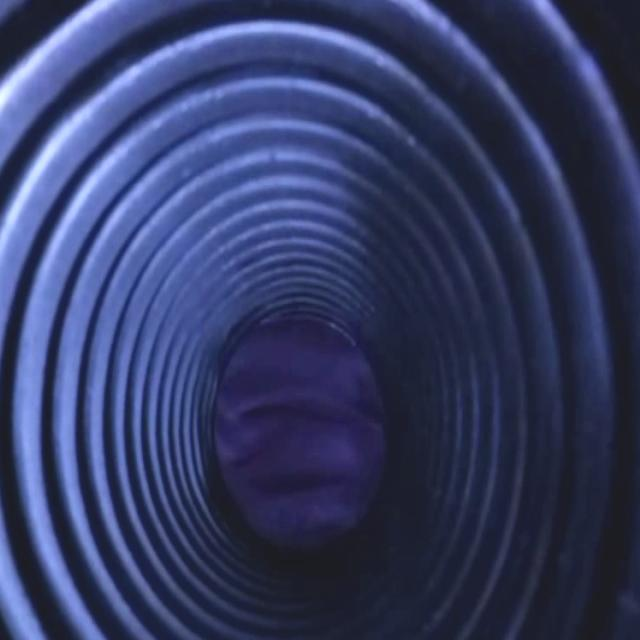block: (203, 322, 381, 534)
